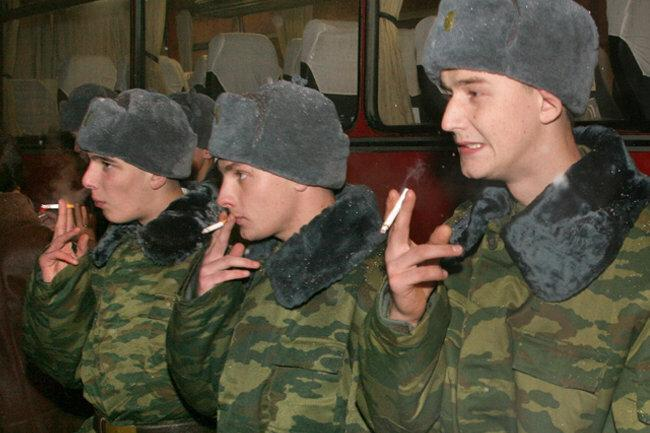cigarette: (379, 187, 410, 233), (201, 217, 228, 234), (40, 204, 75, 209)
